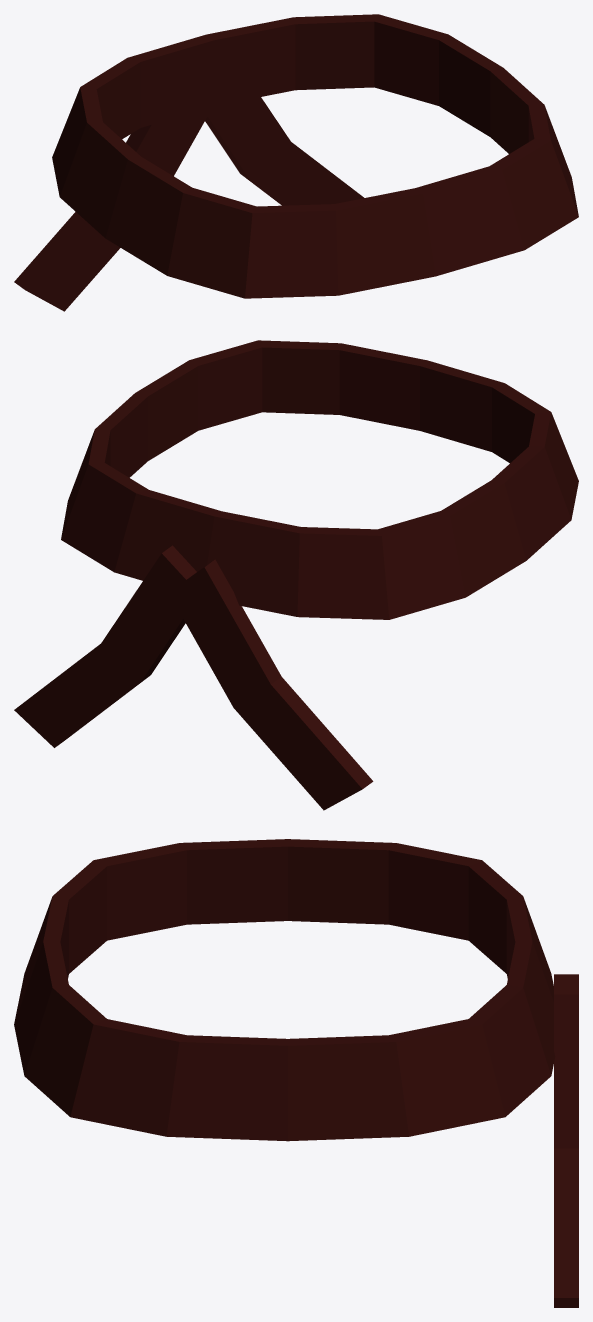
File: Headband.FBX
3 views of the same model, one above another, from view 1: azimuth 30°, elevation 25°; view 2: azimuth 150°, elevation 25°; view 3: azimuth 270°, elevation 25° (orthographic). The views are drawn at different scales.
Parts seen in each view (by area): view 1: Body; view 2: Body; view 3: Body.
Part boxes in pixels (x1,y1,x2,y2): Body: (14, 14, 578, 311); Body: (14, 340, 578, 810); Body: (14, 839, 578, 1307).
Bounding box in the file's own units: 40.41 × 23.45 × 41.69.
